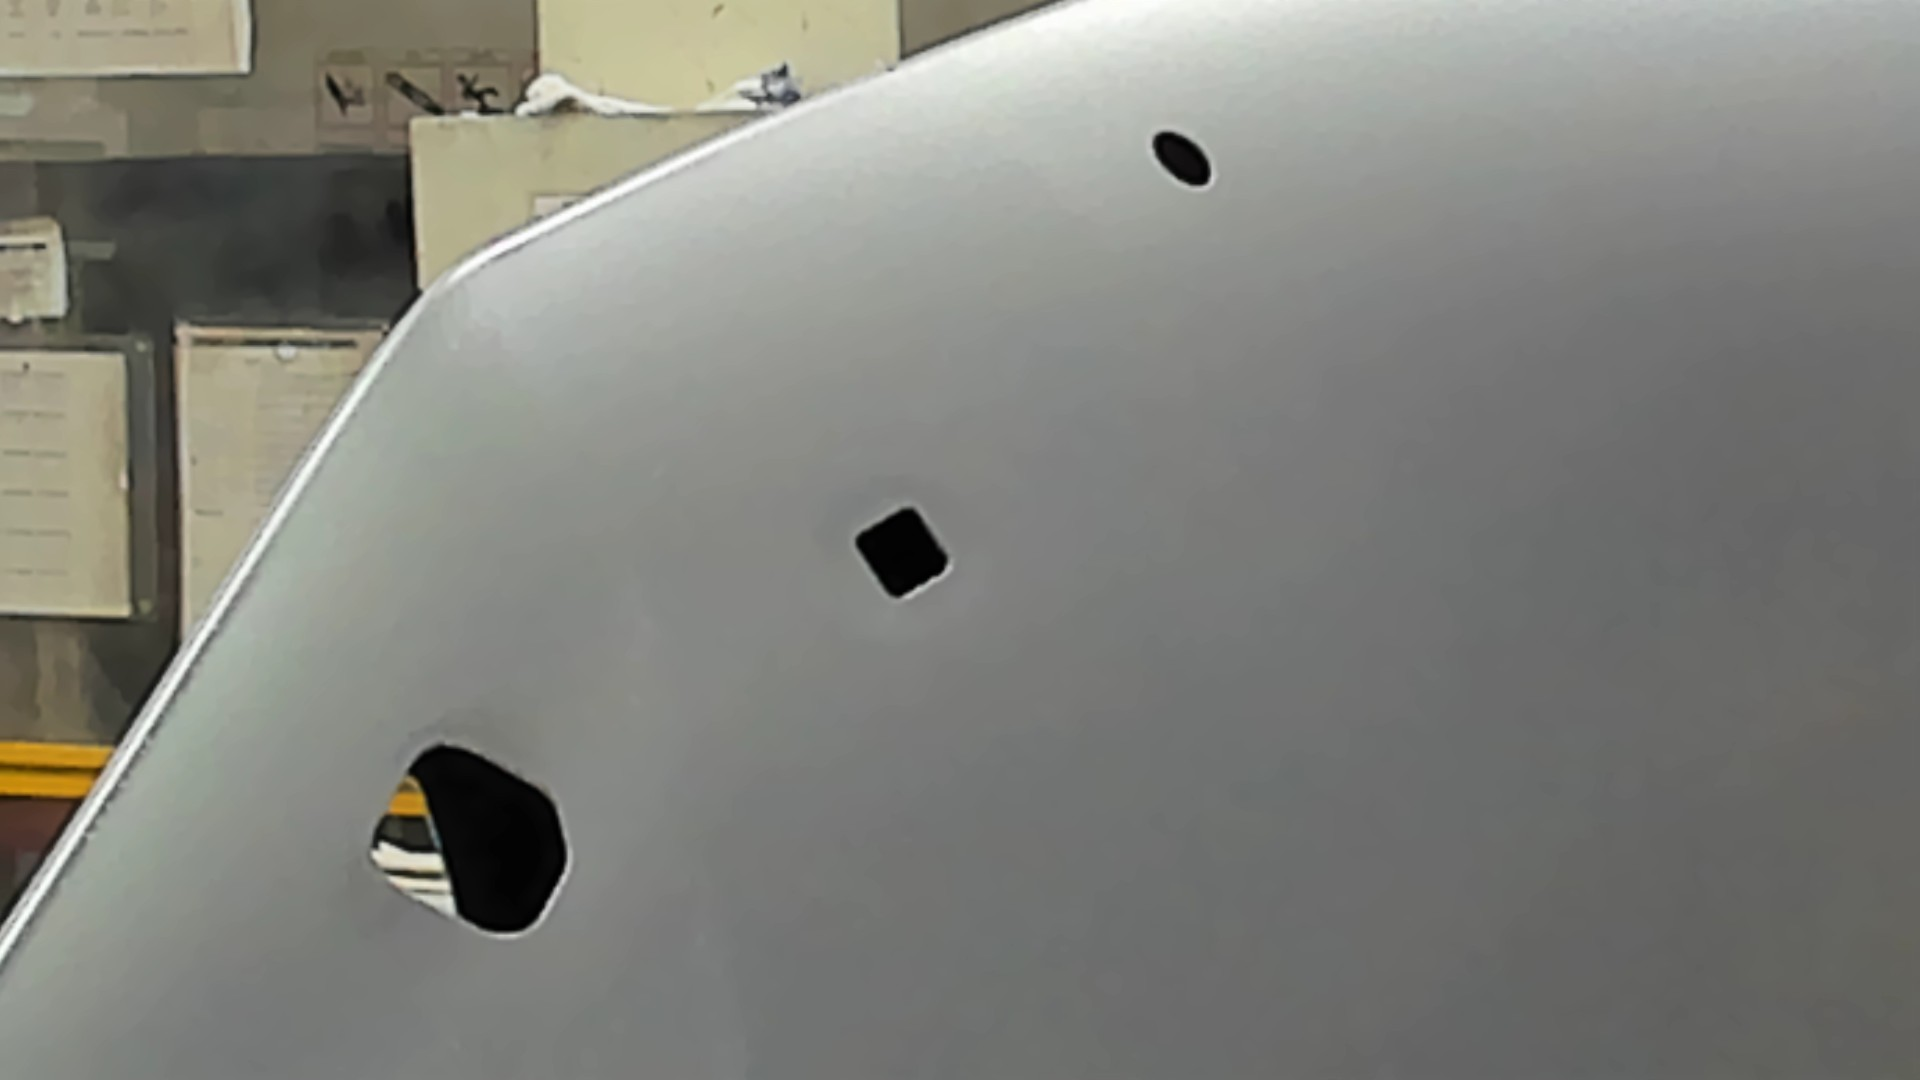chico: (1145, 127, 1218, 195)
grande: (360, 738, 575, 945)
mediano: (845, 498, 956, 604)
